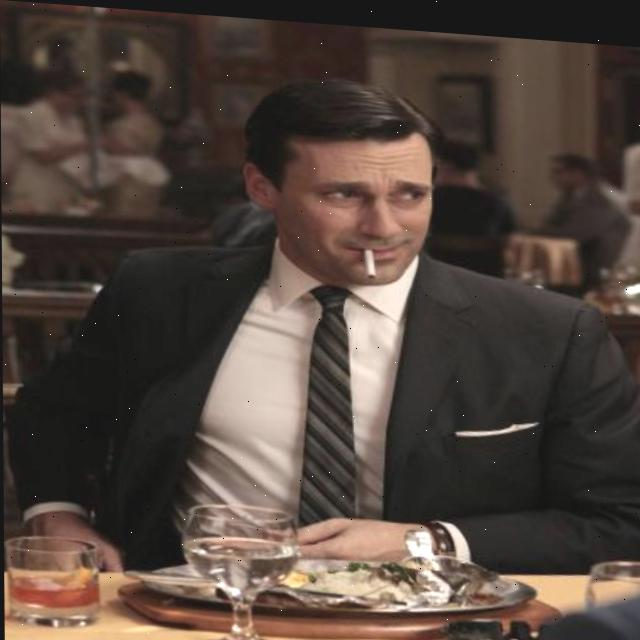cigarette: (364, 244, 376, 275)
